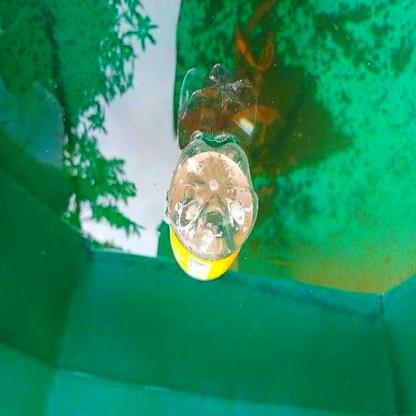plastic bottle: (168, 141, 256, 281)
